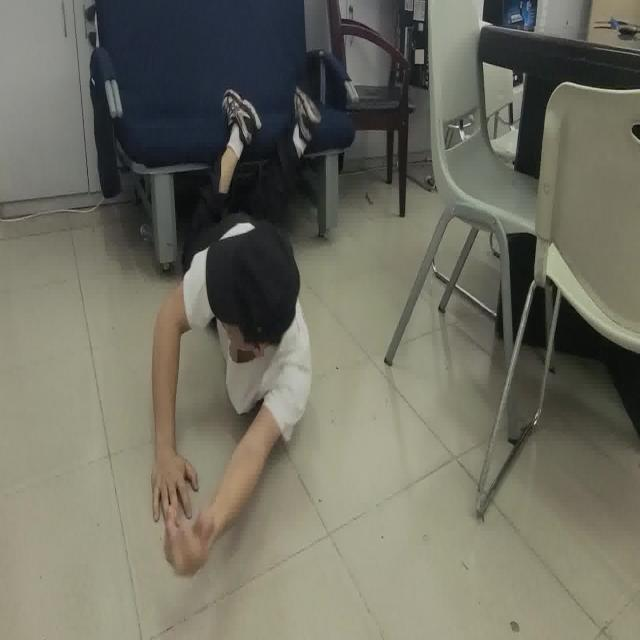fall: (144, 85, 323, 582)
